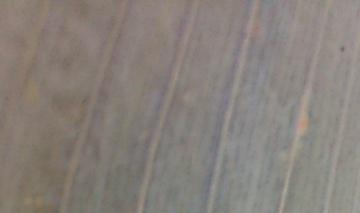tarspot: (339, 44, 346, 54)
